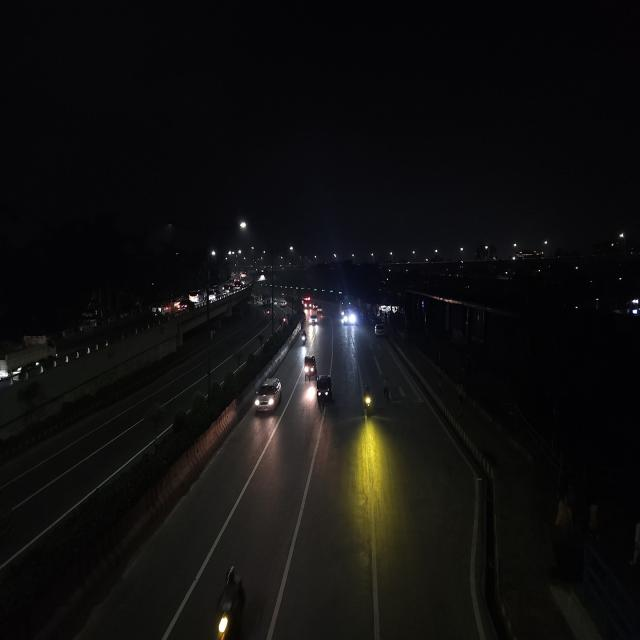bicycle: (383, 375, 391, 409)
bus: (340, 303, 356, 327), (303, 296, 312, 310)
car: (252, 374, 284, 417), (373, 321, 387, 338), (177, 298, 193, 311), (189, 290, 204, 303), (308, 314, 318, 328), (208, 290, 218, 302)
cng: (314, 373, 334, 410), (303, 353, 318, 382)
motorcycle: (212, 560, 250, 640), (360, 383, 376, 422), (300, 330, 308, 348)
truck: (0, 339, 58, 387)
